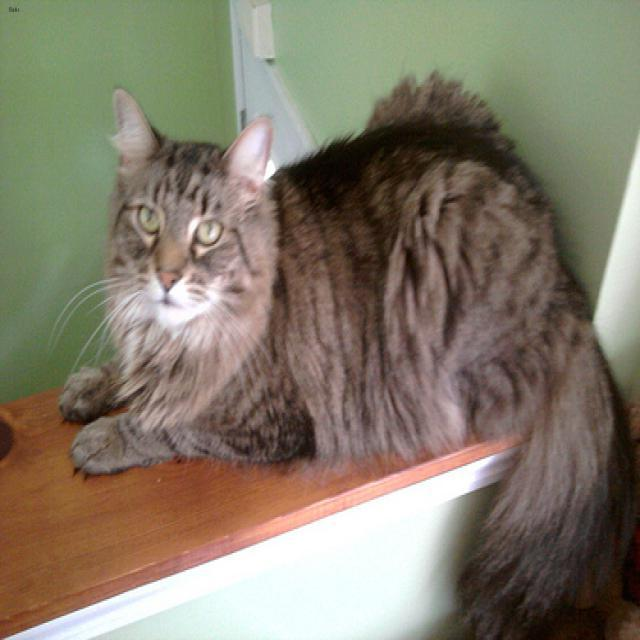Maine_Coon: (102, 86, 277, 336)
